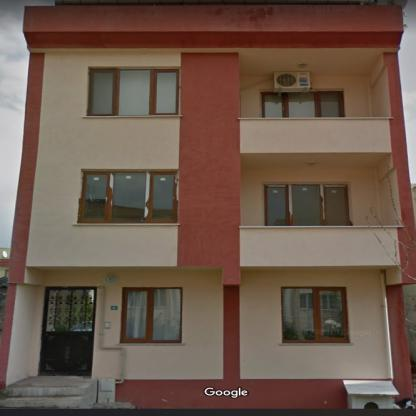door: (37, 286, 95, 374)
window: (80, 172, 178, 222), (88, 67, 178, 115), (282, 287, 348, 342), (264, 184, 350, 225), (121, 288, 182, 342), (262, 92, 344, 118)
